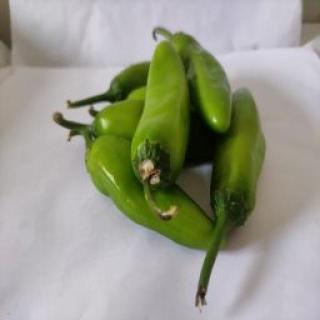Cabai Hijau: (194, 84, 271, 312), (130, 42, 190, 225)
